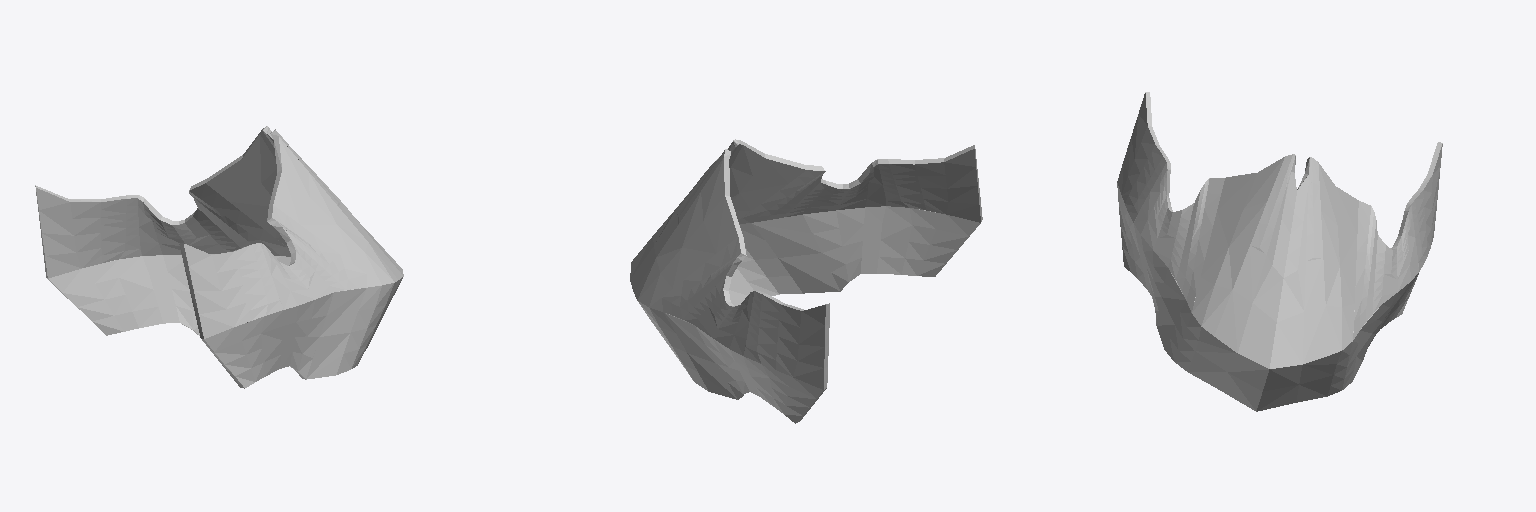
Rendered from shoulder_armour_high.obj.
3 renders of one model, left to right at view 1: azimuth 30°, elevation 25°; view 2: azimuth 150°, elevation 25°; view 3: azimuth 270°, elevation 25°, orthographic.
Parts seen in each view (by area): view 1: polySurface357 polySurface156; view 2: polySurface357 polySurface156; view 3: polySurface357 polySurface156.
Part boxes in pixels (x1,y1,x2,y2): polySurface357 polySurface156: (35, 126, 403, 388); polySurface357 polySurface156: (630, 139, 982, 423); polySurface357 polySurface156: (1117, 92, 1442, 411).
Size of the model in its own units: 19.73 by 15.29 by 19.64.